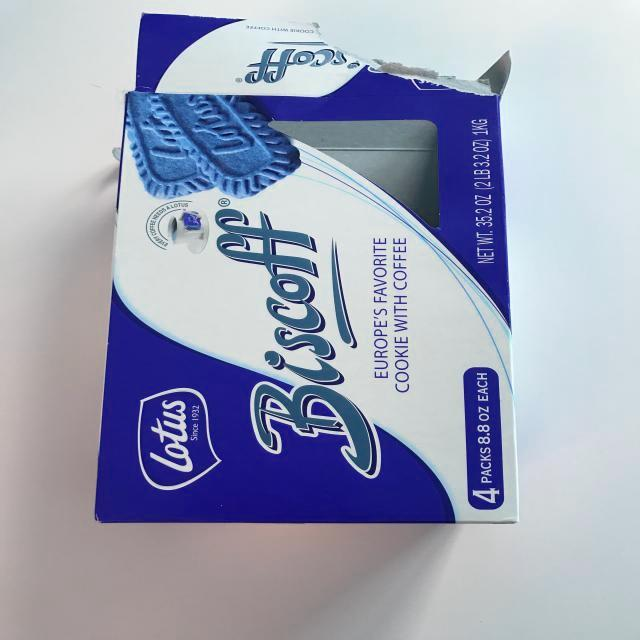paper: (79, 11, 570, 553)
